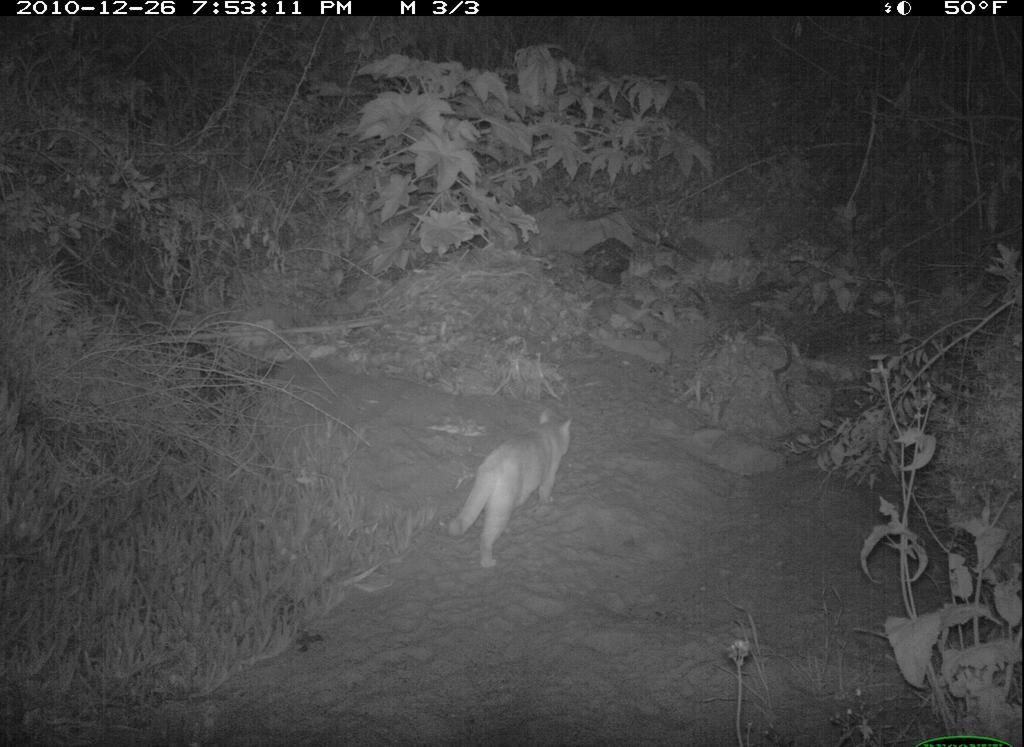cat: (445, 406, 580, 571)
